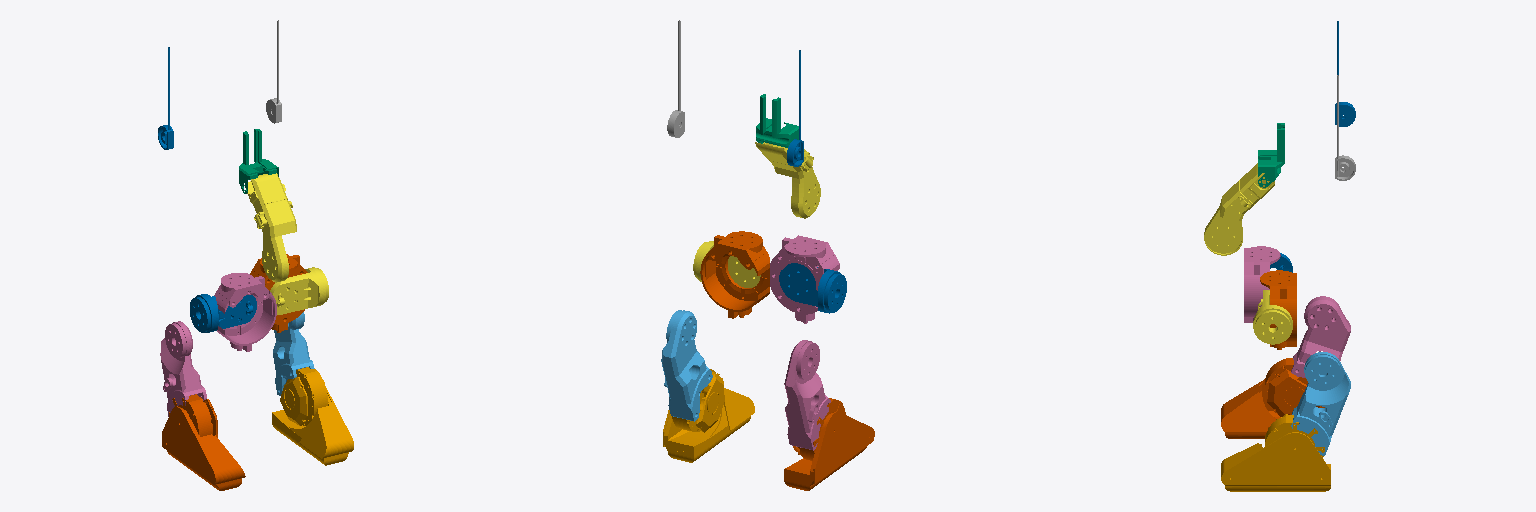
robot.urdf — go_bdx:
<?xml version="1.0" encoding="UTF-8"?>
<robot name="go_bdx">
  <joint name="head_pitch" type="revolute">
    <origin xyz="-0.1124 0.06502 0.00466" rpy="0. 0. 0."/>
    <parent link="neck_pitch_link"/>
    <child link="head_pitch_link"/>
    <axis xyz="0. 0. 1."/>
    <limit lower="-0.7854" upper="0.7854" effort="340282346638528859811704183484516925440." velocity="5939047335254987724700441203225657344."/>
  </joint>
  <joint name="head_yaw" type="revolute">
    <origin xyz="-0.03592 0.00602 0.00021" rpy="3.1415927 -1.5707927 3.1415927"/>
    <parent link="head_pitch_link"/>
    <child link="head_link"/>
    <axis xyz="0. 0. 1."/>
    <limit lower="-0.7854" upper="0.7854" effort="340282346638528859811704183484516925440." velocity="5939047335254987724700441203225657344."/>
  </joint>
  <joint name="left_antenna" type="revolute">
    <origin xyz="0.09909 0.12038 0.02156" rpy="3.1415927 1.5707927 3.1415927"/>
    <parent link="head_link"/>
    <child link="left_antenna_link"/>
    <axis xyz="0. 0. 1."/>
    <limit lower="-0.7854" upper="0.7854" effort="340282346638528859811704183484516925440." velocity="5939047335254987724700441203225657344."/>
  </joint>
  <joint name="left_foot" type="revolute">
    <origin xyz="0.12764 -0.04346 0.03058" rpy="0. 0. 0."/>
    <parent link="left_lower_leg_link"/>
    <child link="left_foot_link"/>
    <axis xyz="0. 0. 1."/>
    <limit lower="-0.7854" upper="0.7854" effort="340282346638528859811704183484516925440." velocity="5939047335254987724700441203225657344."/>
  </joint>
  <joint name="left_hip_pitch" type="revolute">
    <origin xyz="-0.00079 -0.01022 -0.00168" rpy="1.301627 1.5707928 2.872427 "/>
    <parent link="hip_roll_left_link"/>
    <child link="hip_pitch_left_link"/>
    <axis xyz="0. 0. 1."/>
    <limit lower="-0.7854" upper="0.7854" effort="340282346638528859811704183484516925440." velocity="5939047335254987724700441203225657344."/>
  </joint>
  <joint name="left_hip_roll" type="revolute">
    <origin xyz="0.0456 0.09849 -0.01723" rpy="0. 0. 0."/>
    <parent link="BDX"/>
    <child link="hip_roll_left_link"/>
    <axis xyz="0. 0. 1."/>
    <limit lower="-0.7854" upper="0.7854" effort="340282346638528859811704183484516925440." velocity="5939047335254987724700441203225657344."/>
  </joint>
  <joint name="left_hip_yaw" type="revolute">
    <origin xyz="0.00246 -0.11832 0.01368" rpy="1.5708 0. 0. "/>
    <parent link="hip_pitch_left_link"/>
    <child link="left_upper_leg_link"/>
    <axis xyz="0. 0. 1."/>
    <limit lower="-0.7854" upper="0.7854" effort="340282346638528859811704183484516925440." velocity="5939047335254987724700441203225657344."/>
  </joint>
  <joint name="left_shin" type="revolute">
    <origin xyz="0.0743 0.08022 -0.07015" rpy="0. 0. 0."/>
    <parent link="left_upper_leg_link"/>
    <child link="left_lower_leg_link"/>
    <axis xyz="0. 0. 1."/>
    <limit lower="-0.7854" upper="0.7854" effort="340282346638528859811704183484516925440." velocity="5939047335254987724700441203225657344."/>
  </joint>
  <joint name="neck" type="revolute">
    <origin xyz="-0.01146 0.02357 0.0852 " rpy="3.1415927 1.5707927 3.1415927"/>
    <parent link="BDX"/>
    <child link="neck_pitch_link"/>
    <axis xyz="0. 0. 1."/>
    <limit lower="-0.7854" upper="0.7854" effort="340282346638528859811704183484516925440." velocity="5939047335254987724700441203225657344."/>
  </joint>
  <joint name="right_antenna" type="revolute">
    <origin xyz="-0.10121 0.12038 0.02156" rpy="0.0000025 1.5707927 3.1415927"/>
    <parent link="head_link"/>
    <child link="right_antenna_link"/>
    <axis xyz="0. 0. 1."/>
    <limit lower="-0.7854" upper="0.7854" effort="340282346638528859811704183484516925440." velocity="5939047335254987724700441203225657344."/>
  </joint>
  <joint name="right_foot" type="revolute">
    <origin xyz="0.12764 0.04346 0.03058" rpy="0. 0. 0."/>
    <parent link="right_lower_leg_link"/>
    <child link="right_foot_link"/>
    <axis xyz="0. 0. 1."/>
    <limit lower="-0.7854" upper="0.7854" effort="340282346638528859811704183484516925440." velocity="5939047335254987724700441203225657344."/>
  </joint>
  <joint name="right_hip_pitch" type="revolute">
    <origin xyz="-0.00079 0.01022 -0.00168" rpy="-1.5708 0. 3.14159"/>
    <parent link="hip_roll_right_link"/>
    <child link="hip_pitch_right_link"/>
    <axis xyz="0. 0. 1."/>
    <limit lower="-0.7854" upper="0.7854" effort="340282346638528859811704183484516925440." velocity="5939047335254987724700441203225657344."/>
  </joint>
  <joint name="right_hip_roll" type="revolute">
    <origin xyz="-0.0456 0.09849 -0.01723" rpy="0. 0. 3.14159"/>
    <parent link="BDX"/>
    <child link="hip_roll_right_link"/>
    <axis xyz="0. 0. 1."/>
    <limit lower="-0.7854" upper="0.7854" effort="340282346638528859811704183484516925440." velocity="5939047335254987724700441203225657344."/>
  </joint>
  <joint name="right_hip_yaw" type="revolute">
    <origin xyz="-0.11832 0.00246 0.01368" rpy="-1.5708 -0.0000001 1.5708 "/>
    <parent link="hip_pitch_right_link"/>
    <child link="right_upper_leg_link"/>
    <axis xyz="0. 0. 1."/>
    <limit lower="-0.7854" upper="0.7854" effort="340282346638528859811704183484516925440." velocity="5939047335254987724700441203225657344."/>
  </joint>
  <joint name="right_shin" type="revolute">
    <origin xyz="0.0743 -0.08022 -0.07015" rpy="0. 0. 0."/>
    <parent link="right_upper_leg_link"/>
    <child link="right_lower_leg_link"/>
    <axis xyz="0. 0. 1."/>
    <limit lower="-0.7854" upper="0.7854" effort="340282346638528859811704183484516925440." velocity="5939047335254987724700441203225657344."/>
  </joint>
  <link name="BDX">
    <visual>
      <origin xyz="0. 0. 0." rpy="0. 0. 0."/>
      <geometry>
        <mesh filename="meshes/body_link_visuals.obj" scale="0.001 0.001 0.001"/>
      </geometry>
    </visual>
    <collision>
      <origin xyz="0. 0. 0." rpy="0. 0. 0."/>
      <geometry>
        <mesh filename="meshes/body_link_visuals.obj" scale="0.001 0.001 0.001"/>
      </geometry>
    </collision>
  </link>
  <link name="head_link">
    <inertial>
      <origin xyz="0. 0. 0." rpy="0. 0. 0."/>
      <mass value="5."/>
      <inertia ixx="0." ixy="0." ixz="0." iyy="0." iyz="0." izz="0."/>
    </inertial>
    <visual>
      <origin xyz="0. 0. 0." rpy="0. 0. 0."/>
      <geometry>
        <mesh filename="meshes/head_link_visuals.obj" scale="0.001 0.001 0.001"/>
      </geometry>
    </visual>
    <collision>
      <origin xyz="0. 0. 0." rpy="0. 0. 0."/>
      <geometry>
        <mesh filename="meshes/head_link_visuals.obj" scale="0.001 0.001 0.001"/>
      </geometry>
    </collision>
  </link>
  <link name="head_pitch_link">
    <inertial>
      <origin xyz="0. 0. 0." rpy="0. 0. 0."/>
      <mass value="0.2"/>
      <inertia ixx="0." ixy="0." ixz="0." iyy="0." iyz="0." izz="0."/>
    </inertial>
    <visual>
      <origin xyz="0. 0. 0." rpy="3.1415927 -1.5707928 3.1415927"/>
      <geometry>
        <mesh filename="meshes/head_pitch_link_visuals.obj" scale="0.001 0.001 0.001"/>
      </geometry>
    </visual>
    <collision>
      <origin xyz="0. 0. 0." rpy="3.1415927 -1.5707928 3.1415927"/>
      <geometry>
        <mesh filename="meshes/head_pitch_link_visuals.obj" scale="0.001 0.001 0.001"/>
      </geometry>
    </collision>
  </link>
  <link name="hip_pitch_left_link">
    <inertial>
      <origin xyz="0. 0. 0." rpy="0. 0. 0."/>
      <mass value="0.5"/>
      <inertia ixx="0." ixy="0." ixz="0." iyy="0." iyz="0." izz="0."/>
    </inertial>
    <visual>
      <origin xyz="0. 0. 0." rpy="1.5708 -0.0000001 -1.5708 "/>
      <geometry>
        <mesh filename="meshes/hip_pitch_left_link_visuals.obj" scale="0.001 0.001 0.001"/>
      </geometry>
    </visual>
    <collision>
      <origin xyz="0. 0. 0." rpy="1.5708 -0.0000001 -1.5708 "/>
      <geometry>
        <mesh filename="meshes/hip_pitch_left_link_visuals.obj" scale="0.001 0.001 0.001"/>
      </geometry>
    </collision>
  </link>
  <link name="hip_pitch_right_link">
    <inertial>
      <origin xyz="0. 0. 0." rpy="0. 0. 0."/>
      <mass value="0.5"/>
      <inertia ixx="0." ixy="0." ixz="0." iyy="0." iyz="0." izz="0."/>
    </inertial>
    <visual>
      <origin xyz="0. 0. 0." rpy="1.57080 0. 0"/>
      <geometry>
        <mesh filename="meshes/hip_pitch_right_link_visuals.obj" scale="-0.001 -0.001 -0.001"/>
      </geometry>
    </visual>
    <collision>
      <origin xyz="0. 0. 0." rpy="1.57080 0. 0"/>
      <geometry>
        <mesh filename="meshes/hip_pitch_right_link_visuals.obj" scale="-0.001 -0.001 -0.001"/>
      </geometry>
    </collision>
  </link>
  <link name="hip_roll_left_link">
    <inertial>
      <origin xyz="0. 0. 0." rpy="0. 0. 0."/>
      <mass value="0.5"/>
      <inertia ixx="0." ixy="0." ixz="0." iyy="0." iyz="0." izz="0."/>
    </inertial>
    <visual>
      <origin xyz="0. 0. 0." rpy="0. 0. 0."/>
      <geometry>
        <mesh filename="meshes/hip_roll_left_link_visuals.obj" scale="0.001 0.001 0.001"/>
      </geometry>
    </visual>
    <collision>
      <origin xyz="0. 0. 0." rpy="0. 0. 0."/>
      <geometry>
        <mesh filename="meshes/hip_roll_left_link_visuals.obj" scale="0.001 0.001 0.001"/>
      </geometry>
    </collision>
  </link>
  <link name="hip_roll_right_link">
    <inertial>
      <origin xyz="0. 0. 0." rpy="0. 0. 0."/>
      <mass value="0.5"/>
      <inertia ixx="0." ixy="0." ixz="0." iyy="0." iyz="0." izz="0."/>
    </inertial>
    <visual>
      <origin xyz="0. 0. 0." rpy="3.1415927 0. 0. "/>
      <geometry>
        <mesh filename="meshes/hip_roll_right_link_visuals.obj" scale="-0.001 -0.001 -0.001"/>
      </geometry>
    </visual>
    <collision>
      <origin xyz="0. 0. 0." rpy="3.1415927 0. 0. "/>
      <geometry>
        <mesh filename="meshes/hip_roll_right_link_visuals.obj" scale="-0.001 -0.001 -0.001"/>
      </geometry>
    </collision>
  </link>
  <link name="left_antenna_link">
    <inertial>
      <origin xyz="0. 0. 0." rpy="0. 0. 0."/>
      <mass value="0.1"/>
      <inertia ixx="0." ixy="0." ixz="0." iyy="0." iyz="0." izz="0."/>
    </inertial>
    <visual>
      <origin xyz="0. 0. 0." rpy="3.1415927 -1.5707928 3.1415927"/>
      <geometry>
        <mesh filename="meshes/left_antenna_link_visuals.obj" scale="0.001 0.001 0.001"/>
      </geometry>
    </visual>
    <collision>
      <origin xyz="0. 0. 0." rpy="3.1415927 -1.5707928 3.1415927"/>
      <geometry>
        <mesh filename="meshes/left_antenna_link_visuals.obj" scale="0.001 0.001 0.001"/>
      </geometry>
    </collision>
  </link>
  <link name="left_foot_link">
    <inertial>
      <origin xyz="0. 0. 0." rpy="0. 0. 0."/>
      <mass value="0.5"/>
      <inertia ixx="0." ixy="0." ixz="0." iyy="0." iyz="0." izz="0."/>
    </inertial>
    <visual>
      <origin xyz="0. 0. 0." rpy="3.1415927 -1.5707928 -3.1415927"/>
      <geometry>
        <mesh filename="meshes/left_foot_link_visuals.obj" scale="0.001 0.001 0.001"/>
      </geometry>
    </visual>
    <collision>
      <origin xyz="0. 0. 0." rpy="3.1415927 -1.5707928 -3.1415927"/>
      <geometry>
        <mesh filename="meshes/left_foot_link_visuals.obj" scale="0.001 0.001 0.001"/>
      </geometry>
    </collision>
  </link>
  <link name="left_lower_leg_link">
    <inertial>
      <origin xyz="0. 0. 0." rpy="0. 0. 0."/>
      <mass value="1."/>
      <inertia ixx="0." ixy="0." ixz="0." iyy="0." iyz="0." izz="0."/>
    </inertial>
    <visual>
      <origin xyz="0. 0. 0." rpy="3.1415927 -1.5707928 -3.1415927"/>
      <geometry>
        <mesh filename="meshes/left_lower_leg_link_visuals.obj" scale="0.001 0.001 0.001"/>
      </geometry>
    </visual>
    <collision>
      <origin xyz="0. 0. 0." rpy="3.1415927 -1.5707928 -3.1415927"/>
      <geometry>
        <mesh filename="meshes/left_lower_leg_link_visuals.obj" scale="0.001 0.001 0.001"/>
      </geometry>
    </collision>
  </link>
  <link name="left_upper_leg_link">
    <inertial>
      <origin xyz="0. 0. 0." rpy="0. 0. 0."/>
      <mass value="2."/>
      <inertia ixx="0." ixy="0." ixz="0." iyy="0." iyz="0." izz="0."/>
    </inertial>
    <visual>
      <origin xyz="0. 0. 0." rpy="3.1415927 -1.5707928 -3.1415927"/>
      <geometry>
        <mesh filename="meshes/left_upper_leg_link_visuals.obj" scale="0.001 0.001 0.001"/>
      </geometry>
    </visual>
    <collision>
      <origin xyz="0. 0. 0." rpy="3.1415927 -1.5707928 -3.1415927"/>
      <geometry>
        <mesh filename="meshes/left_upper_leg_link_visuals.obj" scale="0.001 0.001 0.001"/>
      </geometry>
    </collision>
  </link>
  <link name="neck_pitch_link">
    <inertial>
      <origin xyz="0. 0. 0." rpy="0. 0. 0."/>
      <mass value="0.5"/>
      <inertia ixx="0." ixy="0." ixz="0." iyy="0." iyz="0." izz="0."/>
    </inertial>
    <visual>
      <origin xyz="0. 0. 0." rpy="3.1415927 -1.5707928 3.1415927"/>
      <geometry>
        <mesh filename="meshes/neck_pitch_link_visuals.obj" scale="0.001 0.001 0.001"/>
      </geometry>
    </visual>
    <collision>
      <origin xyz="0. 0. 0." rpy="3.1415927 -1.5707928 3.1415927"/>
      <geometry>
        <mesh filename="meshes/neck_pitch_link_visuals.obj" scale="0.001 0.001 0.001"/>
      </geometry>
    </collision>
  </link>
  <link name="right_antenna_link">
    <inertial>
      <origin xyz="0. 0. 0." rpy="0.00000 0 0.00000"/>
      <mass value="0.1"/>
      <inertia ixx="0." ixy="0." ixz="0." iyy="0." iyz="0." izz="0."/>
    </inertial>
    <visual>
      <origin xyz="0. 0. 0." rpy="0.00000 1.57080 0.00000"/>
      <geometry>
        <mesh filename="meshes/right_antenna_link_visuals.obj" scale="-0.001 -0.001 -0.001"/>
      </geometry>
    </visual>
    <collision>
      <origin xyz="0. 0. 0." rpy="0.00000 1.57080 0.00000"/>
      <geometry>
        <mesh filename="meshes/right_antenna_link_visuals.obj" scale="-0.001 -0.001 -0.001"/>
      </geometry>
    </collision>
  </link>
  <link name="right_foot_link">
    <inertial>
      <origin xyz="0. 0. 0." rpy="0. 0. 0."/>
      <mass value="0.5"/>
      <inertia ixx="0." ixy="0." ixz="0." iyy="0." iyz="0." izz="0."/>
    </inertial>
    <visual>
      <origin xyz="0. 0. 0." rpy="0. 1.57080 0. "/>
      <geometry>
        <mesh filename="meshes/right_foot_link_visuals.obj" scale="-0.001 -0.001 -0.001"/>
      </geometry>
    </visual>
    <collision>
      <origin xyz="0. 0. 0." rpy="0. 1.57080 0. "/>
      <geometry>
        <mesh filename="meshes/right_foot_link_visuals.obj" scale="-0.001 -0.001 -0.001"/>
      </geometry>
    </collision>
  </link>
  <link name="right_lower_leg_link">
    <inertial>
      <origin xyz="0. 0. 0." rpy="0. 0. 0."/>
      <mass value="1."/>
      <inertia ixx="0." ixy="0." ixz="0." iyy="0." iyz="0." izz="0."/>
    </inertial>
    <visual>
      <origin xyz="0. 0. 0." rpy="0. 1.57080 0. "/>
      <geometry>
        <mesh filename="meshes/right_lower_leg_link_visuals.obj" scale="-0.001 -0.001 -0.001"/>
      </geometry>
    </visual>
    <collision>
      <origin xyz="0. 0. 0." rpy="0. 1.57080 0. "/>
      <geometry>
        <mesh filename="meshes/right_lower_leg_link_visuals.obj" scale="-0.001 -0.001 -0.001"/>
      </geometry>
    </collision>
  </link>
  <link name="right_upper_leg_link">
    <inertial>
      <origin xyz="0. 0. 0." rpy="0. 0. 0."/>
      <mass value="2."/>
      <inertia ixx="0." ixy="0." ixz="0." iyy="0." iyz="0." izz="0."/>
    </inertial>
    <visual>
      <origin xyz="0. 0. 0." rpy="0. 1.57080 0. "/>
      <geometry>
        <mesh filename="meshes/right_upper_leg_link_visuals.obj" scale="-0.001 -0.001 -0.001"/>
      </geometry>
    </visual>
    <collision>
      <origin xyz="0. 0. 0." rpy="0. 1.57080 0. "/>
      <geometry>
        <mesh filename="meshes/right_upper_leg_link_visuals.obj" scale="-0.001 -0.001 -0.001"/>
      </geometry>
    </collision>
  </link>
</robot>

--- What the picture shows (computed from the rendered views, not written in the file) ---
3 views of the same robot in one strip: view 1: azimuth 30°, elevation 25°; view 2: azimuth 150°, elevation 25°; view 3: azimuth 270°, elevation 25° (orthographic).
Model go_bdx with 16 links and 15 joints (15 revolute), rooted at BDX, posed all joints at 0.
Links seen in each view (by area): view 1: left_foot_link, right_foot_link, neck_pitch_link, hip_roll_right_link, right_lower_leg_link, hip_pitch_left_link, left_lower_leg_link, hip_pitch_right_link, head_pitch_link, hip_roll_left_link; view 2: left_foot_link, hip_roll_left_link, right_foot_link, left_lower_leg_link, right_lower_leg_link, hip_roll_right_link, hip_pitch_right_link, neck_pitch_link, head_pitch_link, hip_pitch_left_link, left_antenna_link, right_antenna_link; view 3: left_foot_link, right_foot_link, left_lower_leg_link, neck_pitch_link, right_lower_leg_link, hip_roll_right_link, hip_roll_left_link, hip_pitch_left_link, head_pitch_link, left_antenna_link.
Boxes of the visible links, <box> form: left_foot_link: <box>272,367,353,465</box>; right_foot_link: <box>162,394,245,490</box>; neck_pitch_link: <box>247,173,296,282</box>; hip_roll_right_link: <box>214,273,276,351</box>; right_lower_leg_link: <box>160,321,206,416</box>; hip_pitch_left_link: <box>270,267,328,314</box>; left_lower_leg_link: <box>273,312,314,395</box>; hip_pitch_right_link: <box>190,294,256,332</box>; head_pitch_link: <box>239,129,278,193</box>; hip_roll_left_link: <box>250,254,307,332</box>; left_foot_link: <box>663,369,754,462</box>; hip_roll_left_link: <box>700,231,769,318</box>; right_foot_link: <box>784,398,874,490</box>; left_lower_leg_link: <box>661,310,712,421</box>; right_lower_leg_link: <box>784,340,830,450</box>; hip_roll_right_link: <box>770,235,839,323</box>; hip_pitch_right_link: <box>779,263,846,313</box>; neck_pitch_link: <box>755,142,820,218</box>; head_pitch_link: <box>756,94,798,147</box>; hip_pitch_left_link: <box>693,241,760,287</box>; left_antenna_link: <box>667,20,684,137</box>; right_antenna_link: <box>787,50,803,166</box>; left_foot_link: <box>1221,414,1330,491</box>; right_foot_link: <box>1221,358,1324,438</box>; left_lower_leg_link: <box>1291,352,1350,455</box>; neck_pitch_link: <box>1204,163,1274,255</box>; right_lower_leg_link: <box>1291,296,1350,377</box>; hip_roll_right_link: <box>1244,246,1280,322</box>; hip_roll_left_link: <box>1260,270,1296,349</box>; hip_pitch_left_link: <box>1253,290,1292,344</box>; head_pitch_link: <box>1258,123,1284,187</box>; left_antenna_link: <box>1335,75,1355,180</box>.
Bounding box of the posed robot: 0.2601 × 0.2421 × 0.727 m (x, y, z).
12 mesh visuals loaded from 16 distinct referenced files (12 OBJ); not drawn: 4 (reference not matched to a file when rendering).
